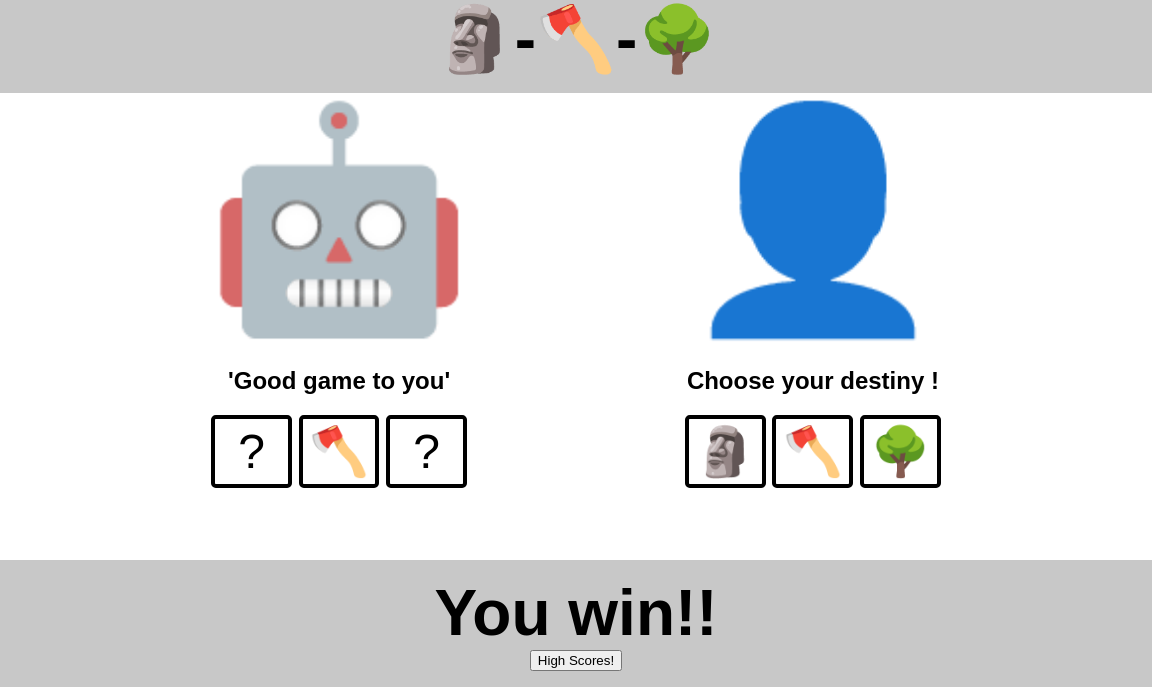
Game Tests › Can fetch high schores
This screenshot has width=1152, height=687.
(page scrolled)
Click the button with test id "high-scores" at (576, 661), box [530, 650, 622, 671]
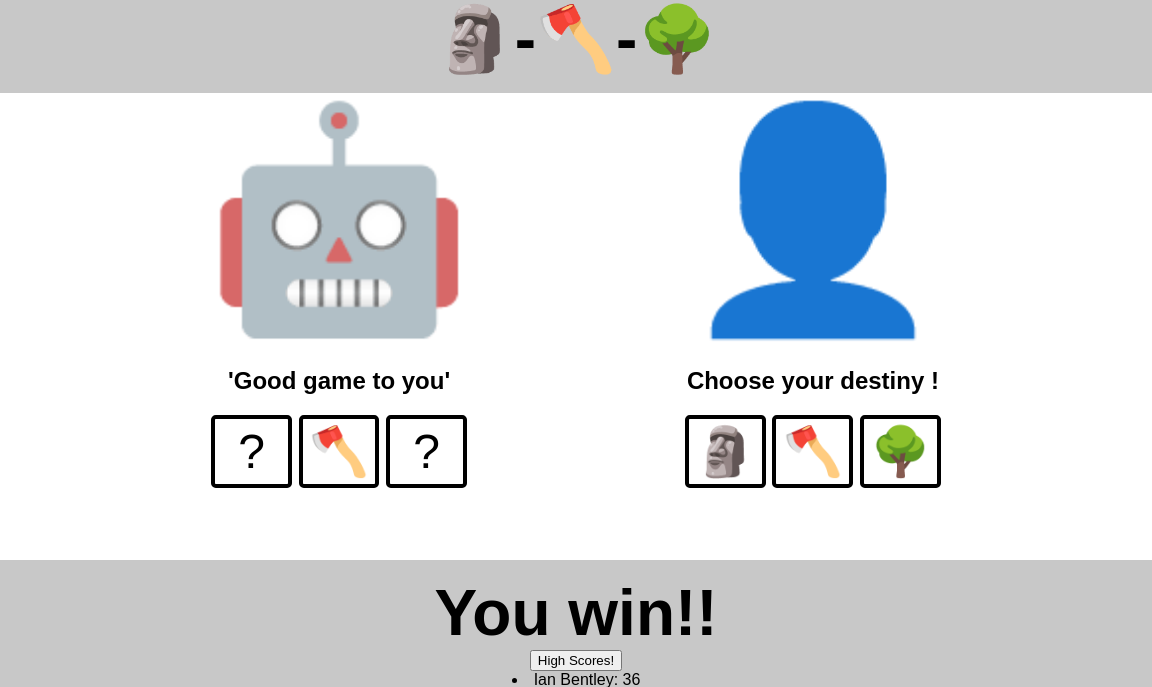
Now the list item "Ian Bentley" is shown, box [534, 671, 614, 686]
